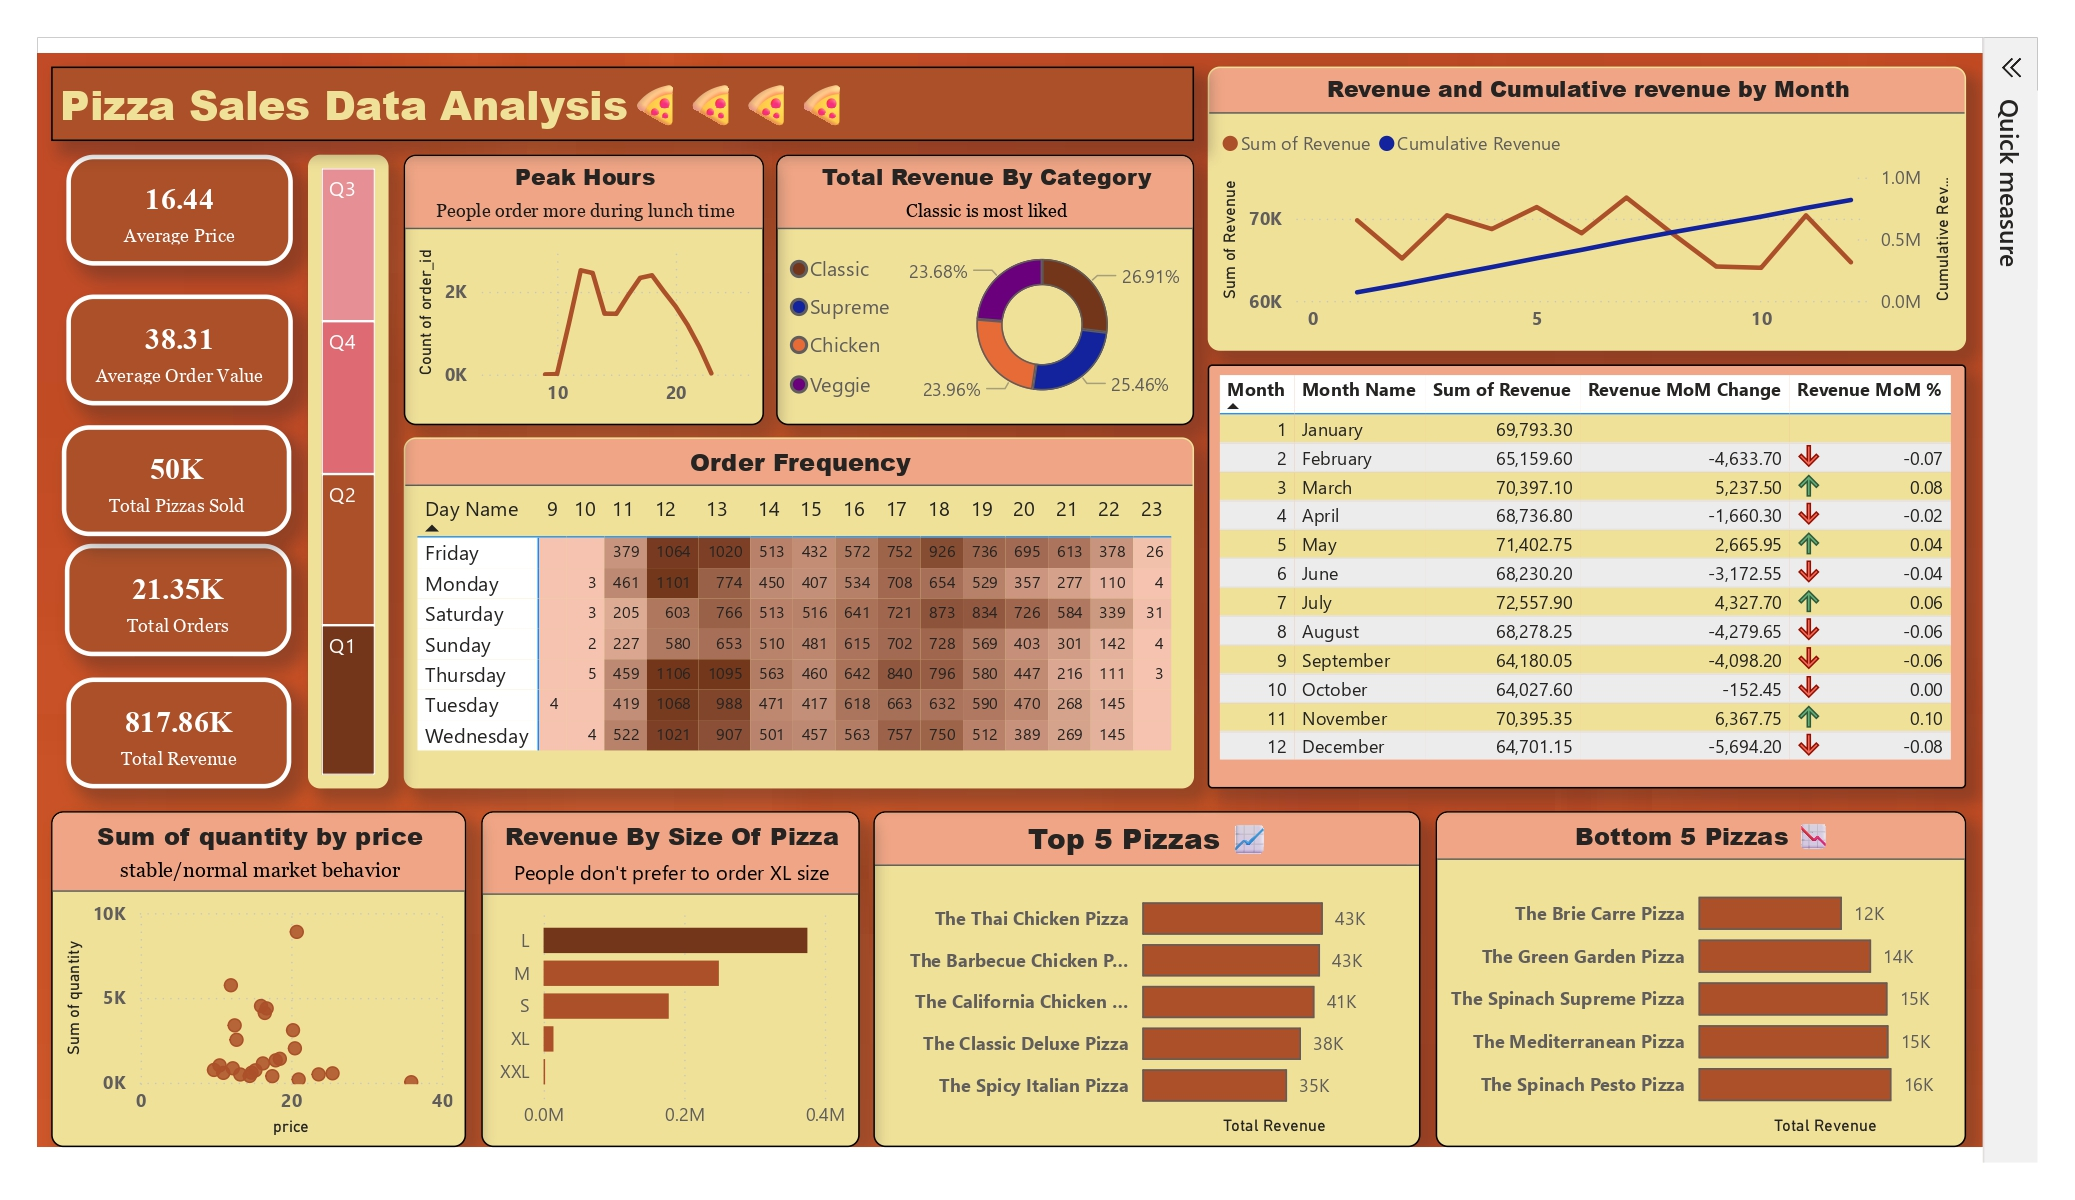

The dashboard page shown, as its layout file describes it:
{"tool":"powerbi","page":{"name":"Page 1","canvas":[1280,720],"ordinal":0},"visuals":[{"type":"donutChart","title":"Total Revenue By Category","fields":{"Category":["public pizza_types.category"],"Y":["public order_details.Total Revenue"]},"box":[486.5,67,274.2,178.2],"z":0},{"type":"clusteredBarChart","title":"Top 5 Pizzas 📈","fields":{"Category":["public pizza_types.name"],"Y":["public order_details.Total Revenue"]},"box":[549.7,499.1,360.1,221.1],"z":1000},{"type":"clusteredBarChart","title":"Revenue By Size Of Pizza","fields":{"Category":["public pizzas.size"],"Y":["public order_details.Total Revenue"]},"box":[291.9,499.1,248.9,221.1],"z":2000},{"type":"clusteredBarChart","title":"Bottom 5 Pizzas 📉","fields":{"Category":["public pizza_types.name"],"Y":["public order_details.Total Revenue"]},"box":[919.9,499.1,348.7,221.1],"z":3000},{"type":"lineChart","title":" Revenue and Cumulative revenue by Month ","fields":{"Category":["DateTable.Month"],"Y":["Sum(public order_details.Revenue)"],"Y2":["public order_details.Cumulative Revenue"]},"box":[769.5,8.8,499.1,187],"z":4000},{"type":"scatterChart","fields":{"X":["public pizzas.price"],"Y":["Sum(public order_details.quantity)"]},"box":[8.8,499.1,272.9,221.1],"z":5000},{"type":"card","fields":{"Values":["public order_details.Average Price"]},"box":[19,67,149.1,73.3],"z":6000},{"type":"card","fields":{"Values":["public order_details.Average Order Value"]},"box":[19,159.2,149.1,73.3],"z":7000},{"type":"card","fields":{"Values":["public order_details.Total Orders"]},"box":[17.7,323.5,149.1,73.3],"z":8000},{"type":"card","fields":{"Values":["public order_details.Total Revenue"]},"box":[19,410.7,147.8,73.3],"z":9000},{"type":"card","fields":{"Values":["public order_details.Total Pizzas Sold"]},"box":[16.4,245.1,150.4,73.3],"z":10000},{"type":"lineChart","title":"Peak Hours","fields":{"Y":["CountNonNull(public orders.order_id)"],"Category":["public orders.hour"]},"box":[241.3,67,236.3,178.2],"z":11000},{"type":"pivotTable","title":"Order Frequency","fields":{"Rows":["DateTable.Day Name"],"Columns":["public orders.hour"],"Values":["CountNonNull(public order_details.order_id)"]},"box":[241.3,252.7,519.3,231.2],"z":12000},{"type":"tableEx","fields":{"Values":["DateTable.Month","DateTable.Month Name","Sum(public order_details.Revenue)","public order_details.Revenue MoM Change","public order_details.Revenue MoM %"]},"box":[769.5,204.7,499.1,279.2],"z":13000},{"type":"treemap","fields":{"Values":["CountNonNull(DateTable.Quarter)"],"Group":["DateTable.Quarter"]},"box":[178.2,67,53.1,417],"z":13001},{"type":"textbox","box":[8.8,8.8,751.8,49.3],"z":13002}]}

Visuals, with their boxes in screenshot pixels (x1, y1, x2, y2):
"Total Revenue By Category" donutChart: <bbox>766, 136, 1189, 411</bbox>
"Top 5 Pizzas 📈" clusteredBarChart: <bbox>864, 802, 1419, 1143</bbox>
"Revenue By Size Of Pizza" clusteredBarChart: <bbox>466, 802, 850, 1143</bbox>
"Bottom 5 Pizzas 📉" clusteredBarChart: <bbox>1435, 802, 1972, 1143</bbox>
" Revenue and Cumulative revenue by Month " lineChart: <bbox>1203, 46, 1972, 334</bbox>
scatterChart - public pizzas.price x Sum(public order_details.quantity): <bbox>30, 802, 451, 1143</bbox>
card - public order_details.Average Price: <bbox>46, 136, 275, 249</bbox>
card - public order_details.Average Order Value: <bbox>46, 278, 275, 391</bbox>
card - public order_details.Total Orders: <bbox>44, 531, 273, 644</bbox>
card - public order_details.Total Revenue: <bbox>46, 666, 273, 779</bbox>
card - public order_details.Total Pizzas Sold: <bbox>41, 410, 273, 523</bbox>
"Peak Hours" lineChart: <bbox>388, 136, 753, 411</bbox>
"Order Frequency" pivotTable: <bbox>388, 422, 1189, 779</bbox>
tableEx - DateTable.Month x DateTable.Month Name: <bbox>1203, 348, 1972, 779</bbox>
treemap - CountNonNull(DateTable.Quarter) x DateTable.Quarter: <bbox>291, 136, 373, 779</bbox>
textbox: <bbox>30, 46, 1189, 122</bbox>
